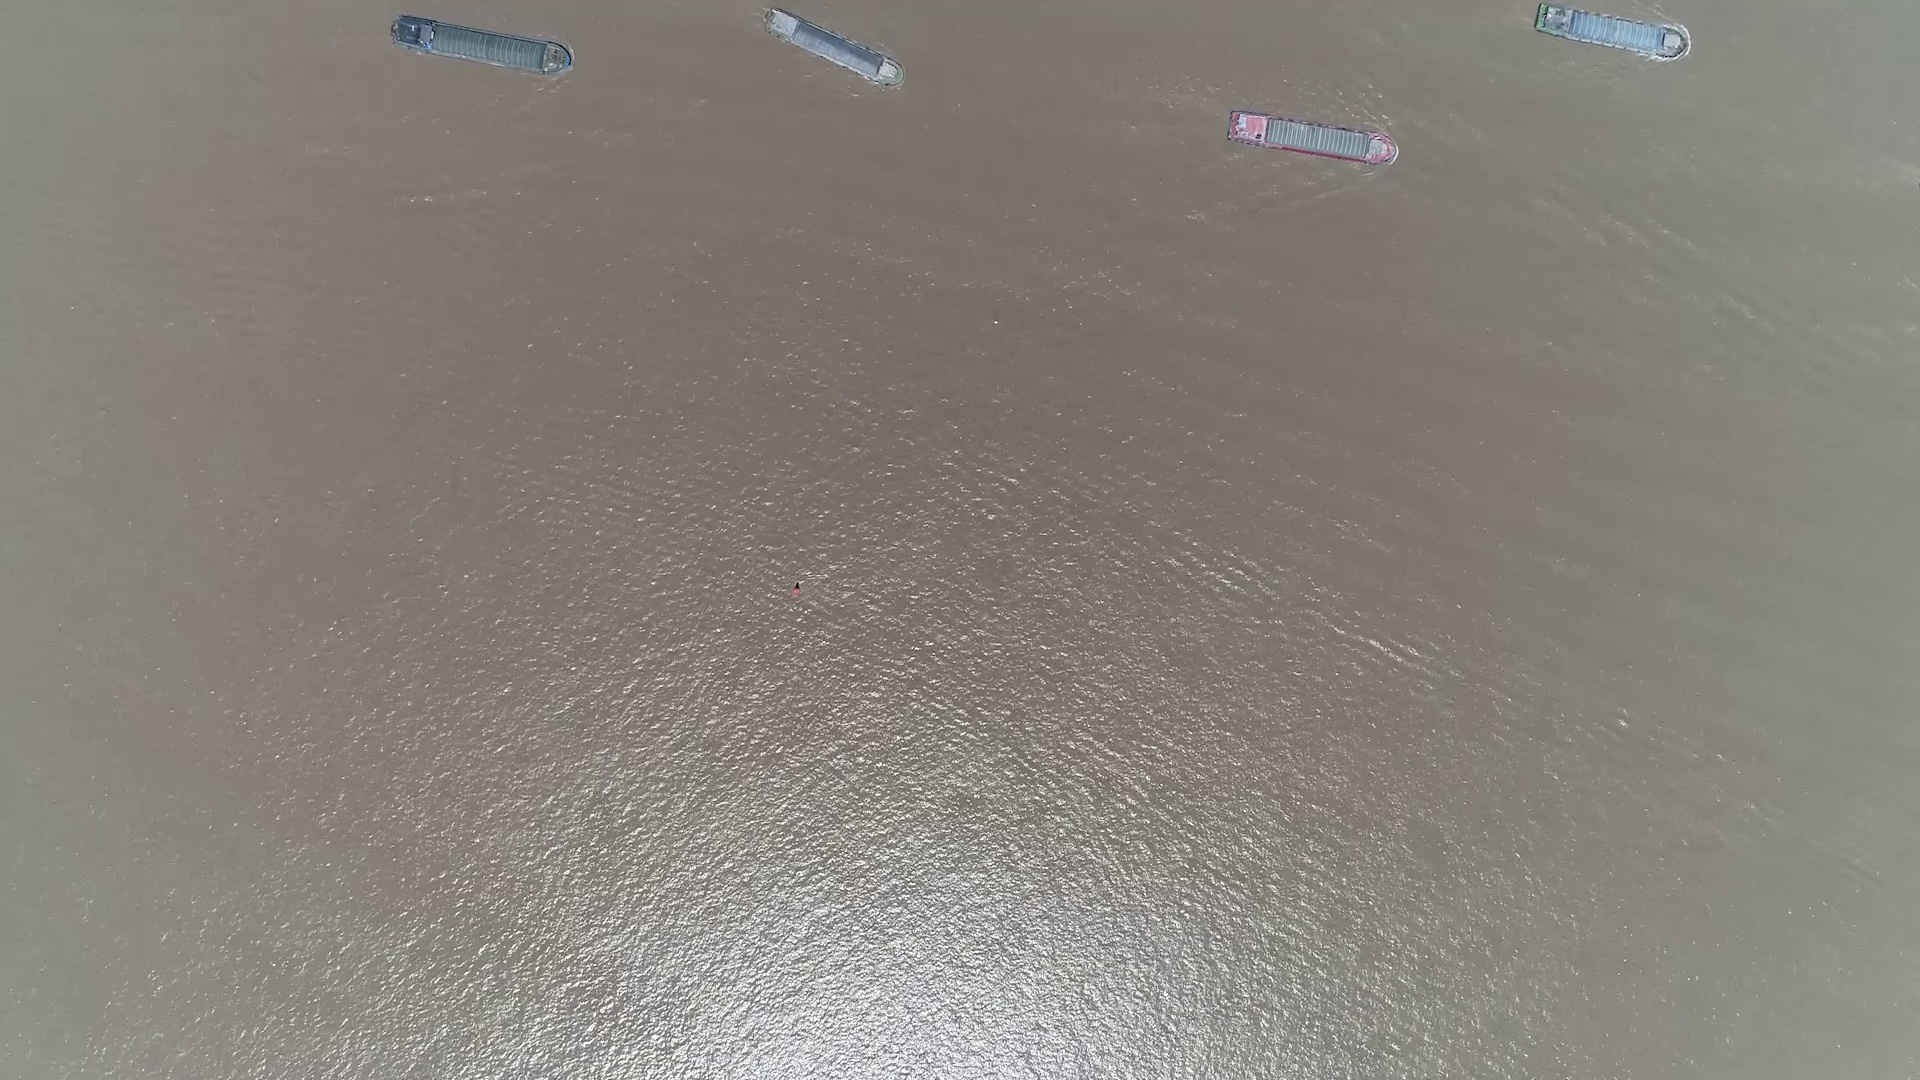ship: (390, 15, 572, 75), (764, 11, 901, 84), (1225, 113, 1398, 165), (1532, 5, 1691, 58)
